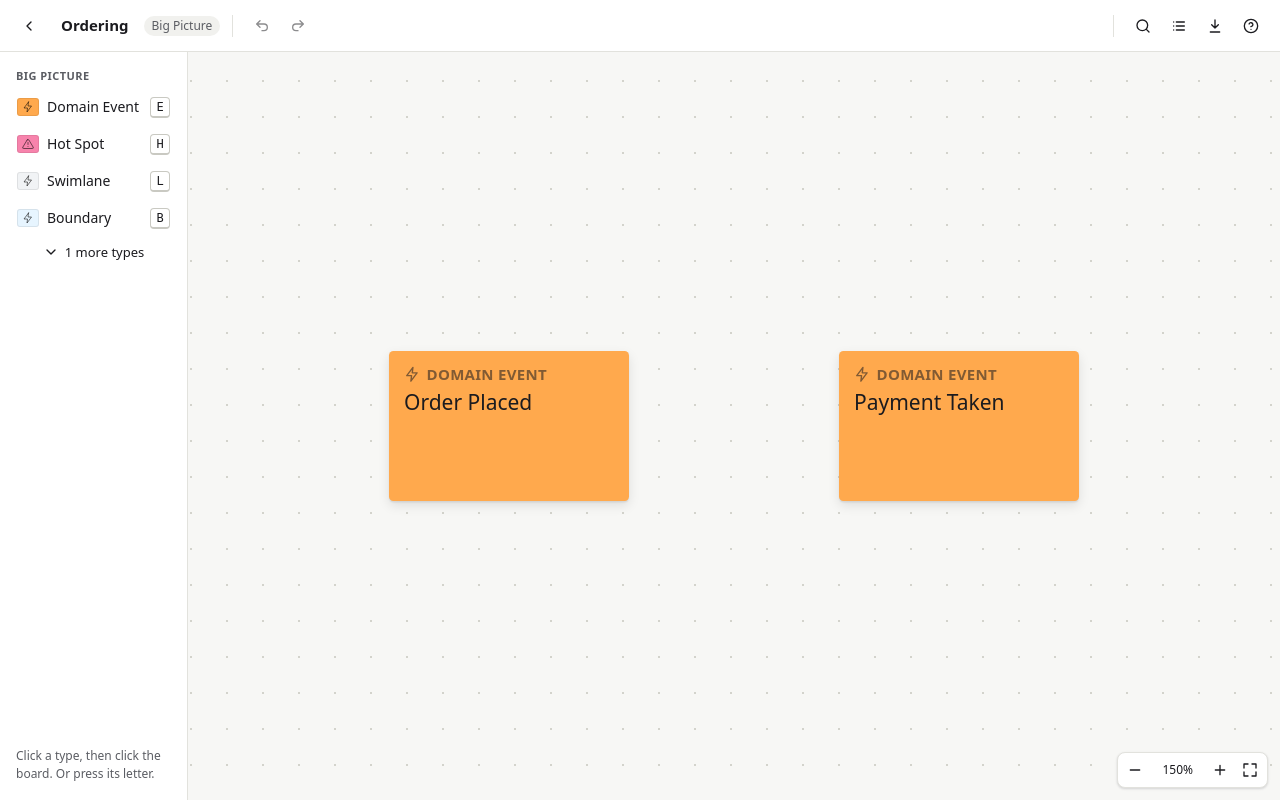
board editor › edits, deletes and undoes with the keyboard
Click the button with aria-label "Domain Event: Order Placed". click: [509, 426]
box: [389,351,629,501]
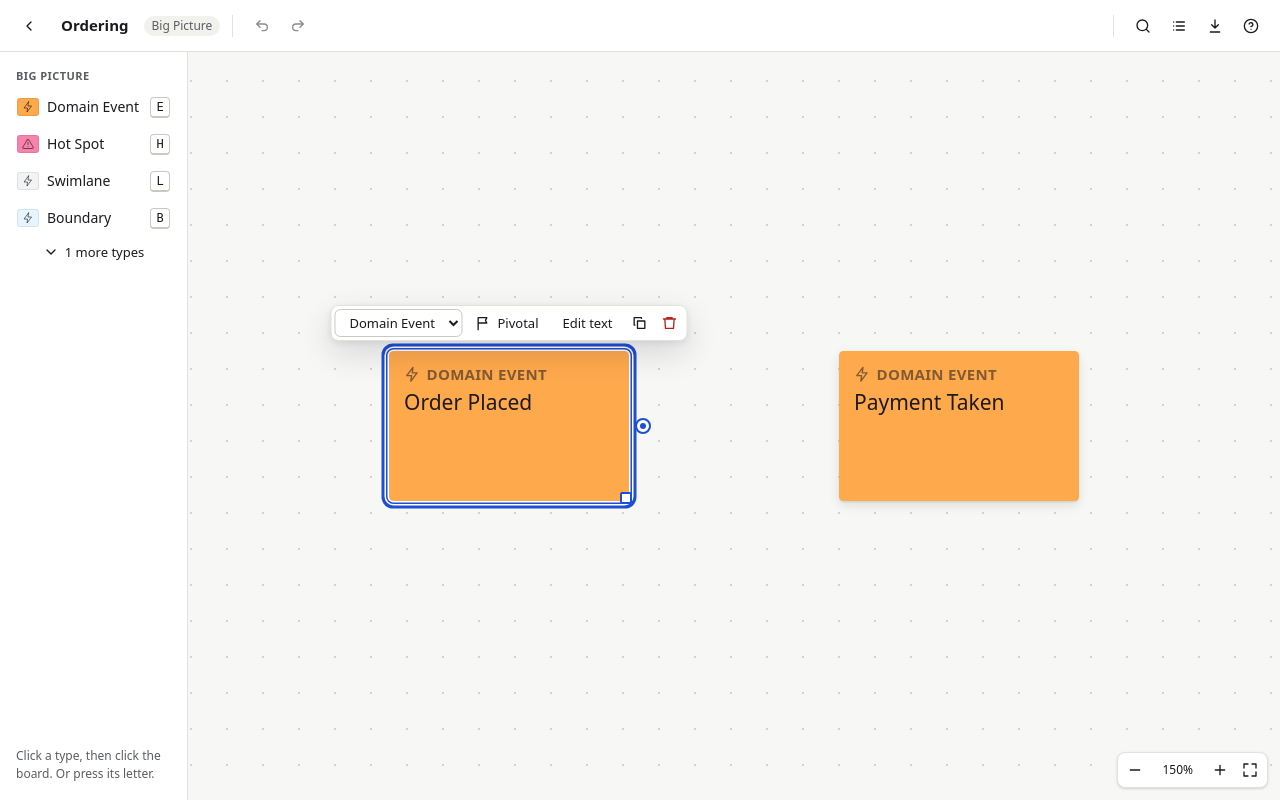
Check: the button with aria-label "Domain Event: Order Placed" is pressed, box [389,351,629,501]
Press Enter
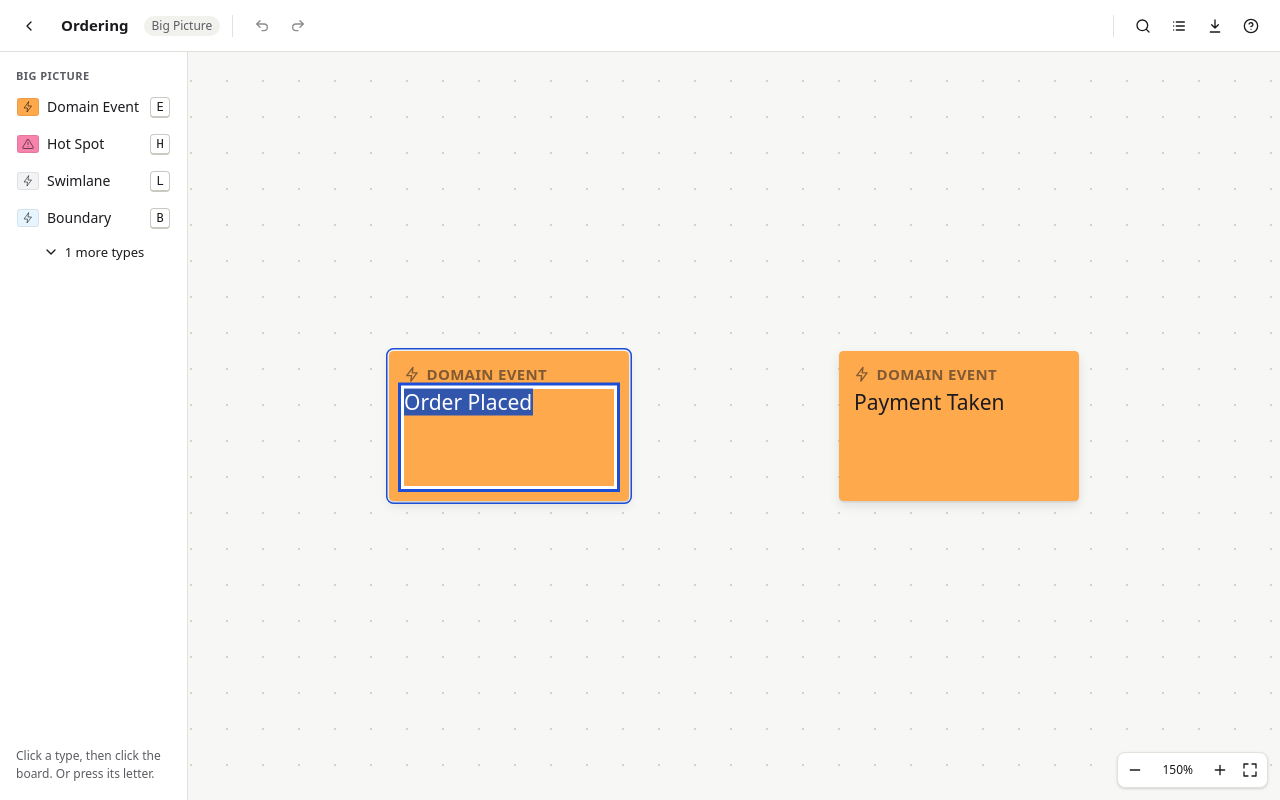
Replace the text in the text box named "Text of this Domain Event" with "Order Submitted". click: [509, 437]
box: [404,388,614,486]
Then press Enter
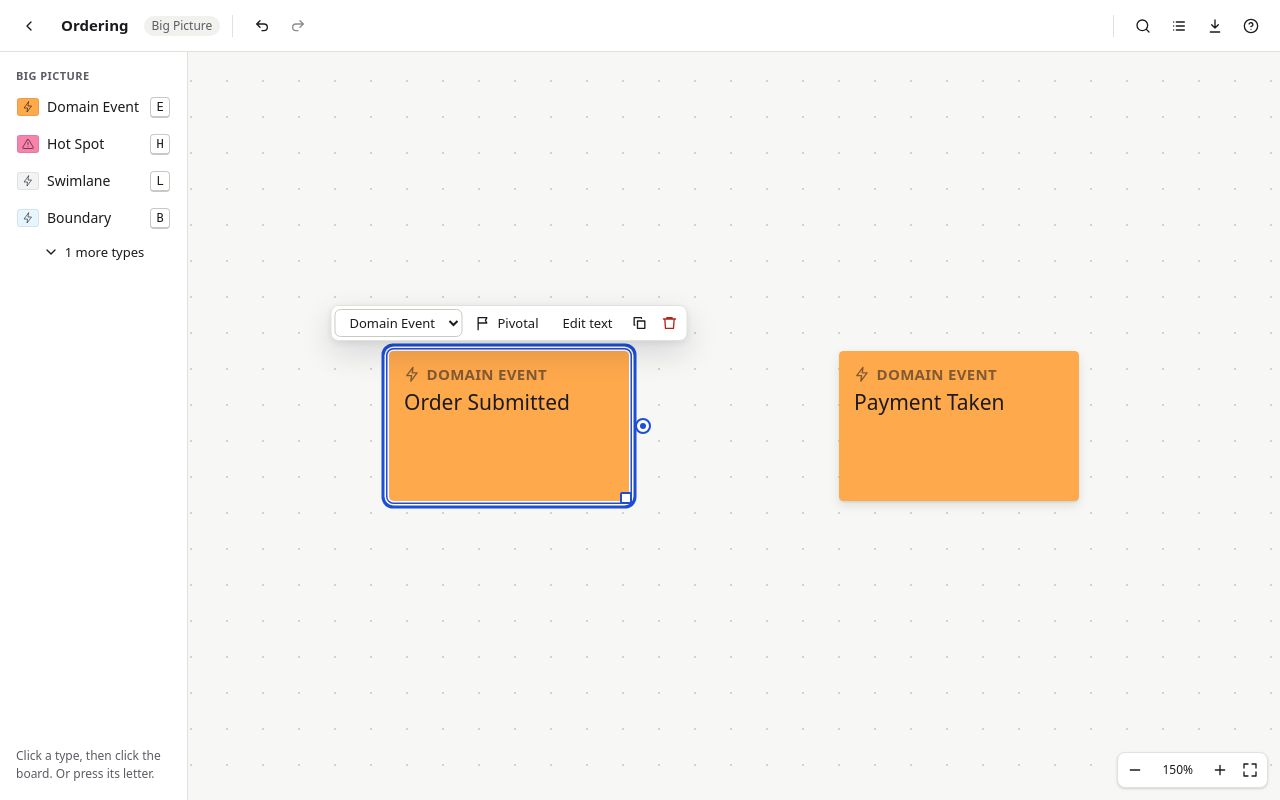
Check: the button with aria-label "Domain Event: Order Submitted" is shown, box [389,351,629,501]
Press Delete
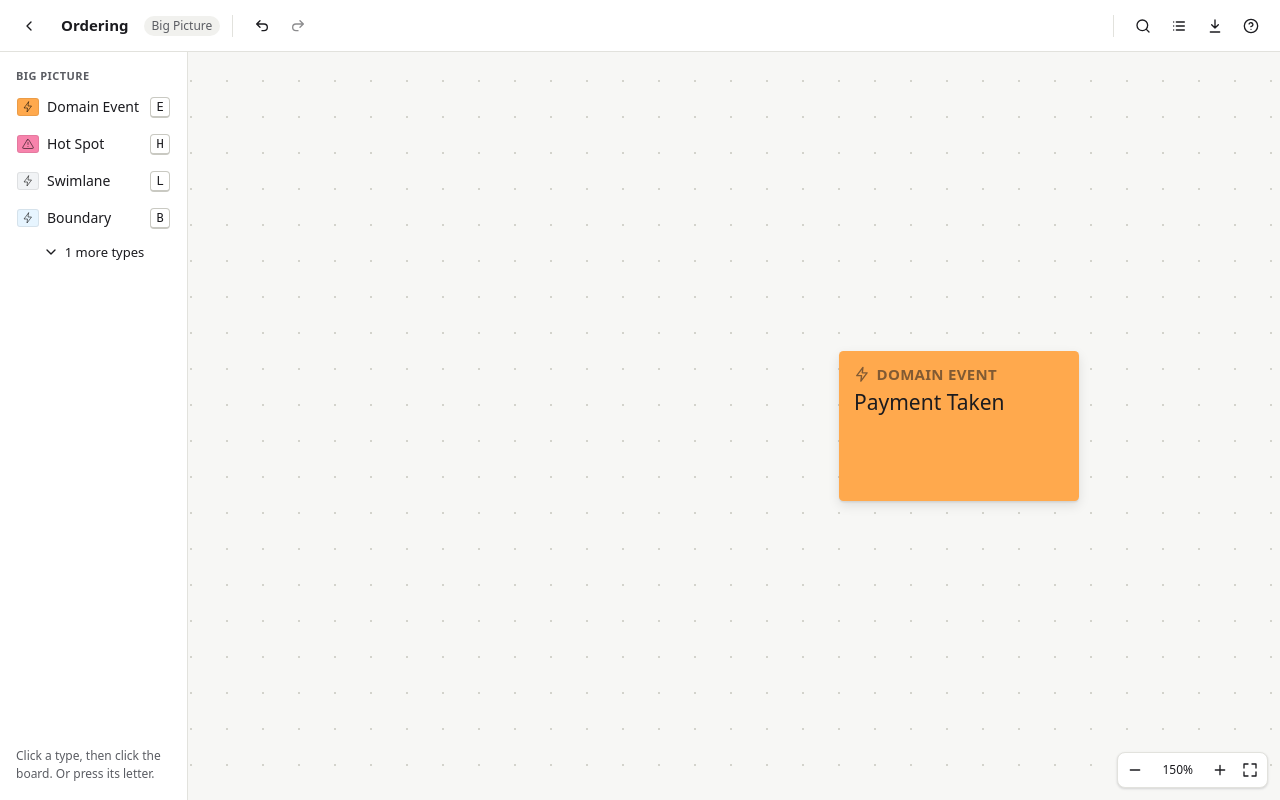
Type keys "{Control>}z{/Control}"
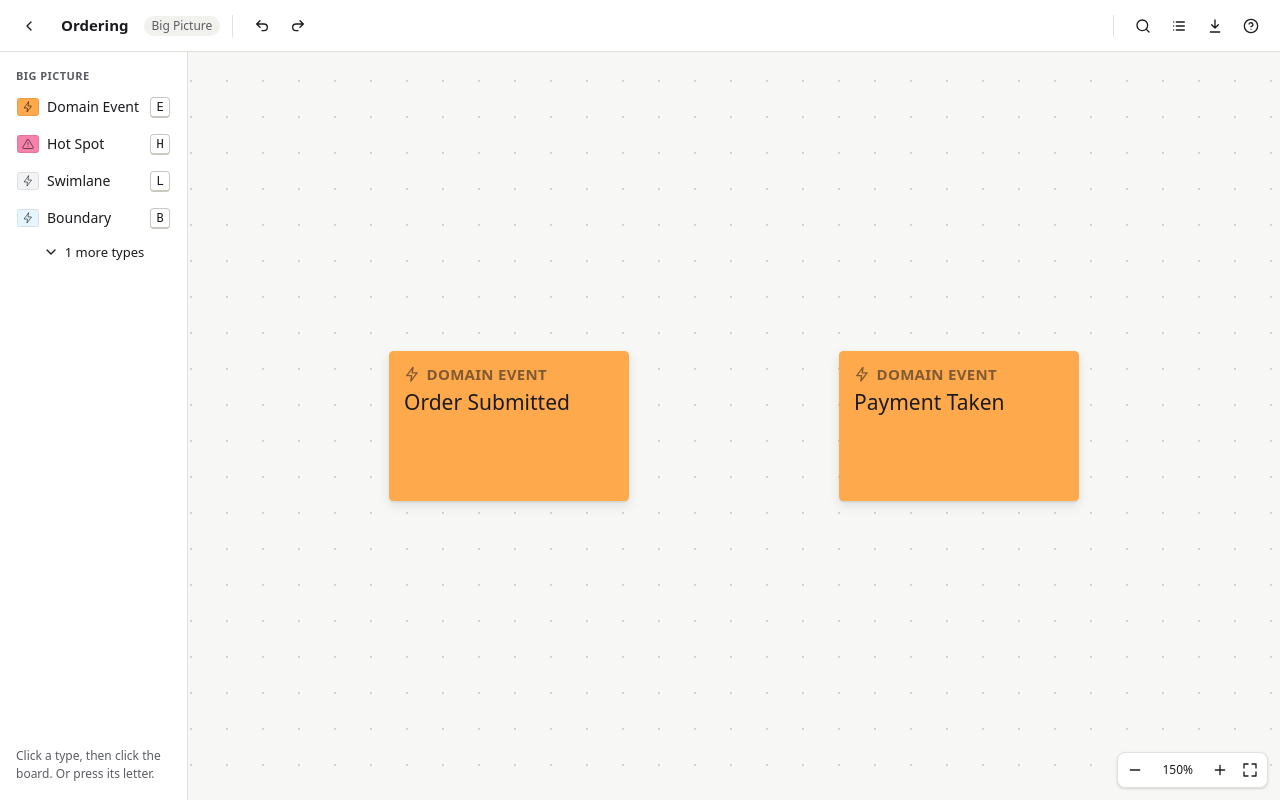
Check: the button with aria-label "Domain Event: Order Submitted" is shown, box [389,351,629,501]
